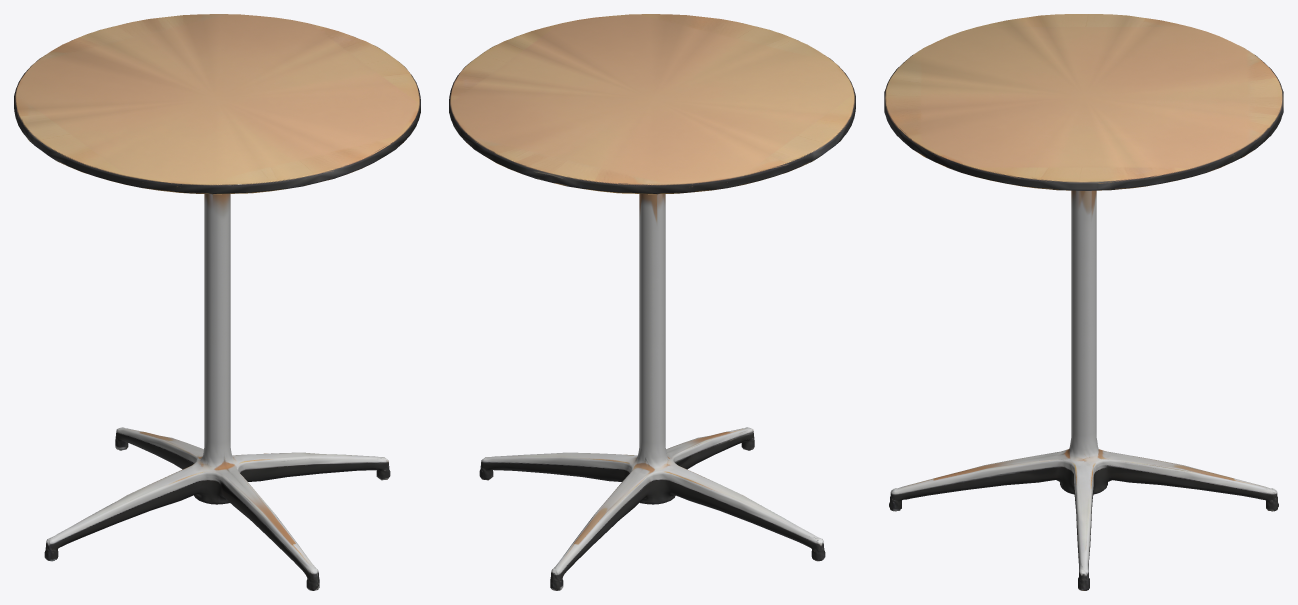
File: Short_Cocktail_Table_30InTall_0208185210_texture.glb
3 renders of one model, left to right at view 1: azimuth 30°, elevation 25°; view 2: azimuth 150°, elevation 25°; view 3: azimuth 270°, elevation 25°, orthographic.
Parts seen in each view (by area): view 1: Mesh_0; view 2: Mesh_0; view 3: Mesh_0.
Part boxes in pixels (bbox=[...]): Mesh_0: bbox=[14, 14, 420, 590]; Mesh_0: bbox=[449, 14, 855, 590]; Mesh_0: bbox=[884, 14, 1283, 590].
Size of the model in its own units: 0.6681 by 0.762 by 0.6681.
Materials: 1 (1 with a texture image).
